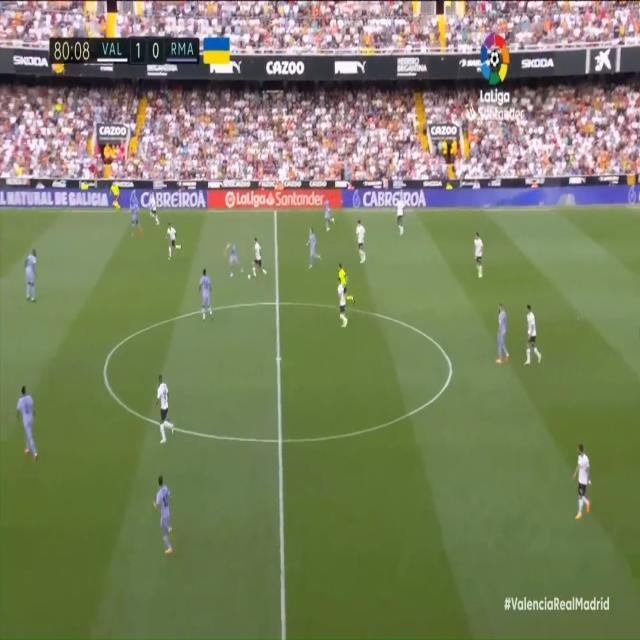ball: (247, 272, 252, 283)
player: (13, 384, 41, 465), (153, 472, 175, 559), (573, 441, 593, 526), (155, 372, 177, 446), (521, 301, 543, 370), (492, 300, 509, 368), (197, 266, 216, 322), (24, 243, 41, 305), (223, 239, 244, 278), (306, 224, 322, 272), (321, 197, 341, 235), (167, 218, 185, 260), (336, 276, 349, 329), (252, 236, 268, 279), (472, 230, 485, 280), (356, 218, 369, 267), (147, 193, 163, 230), (396, 192, 407, 239), (130, 198, 141, 240)
referee: (339, 255, 356, 311), (108, 178, 124, 211)
